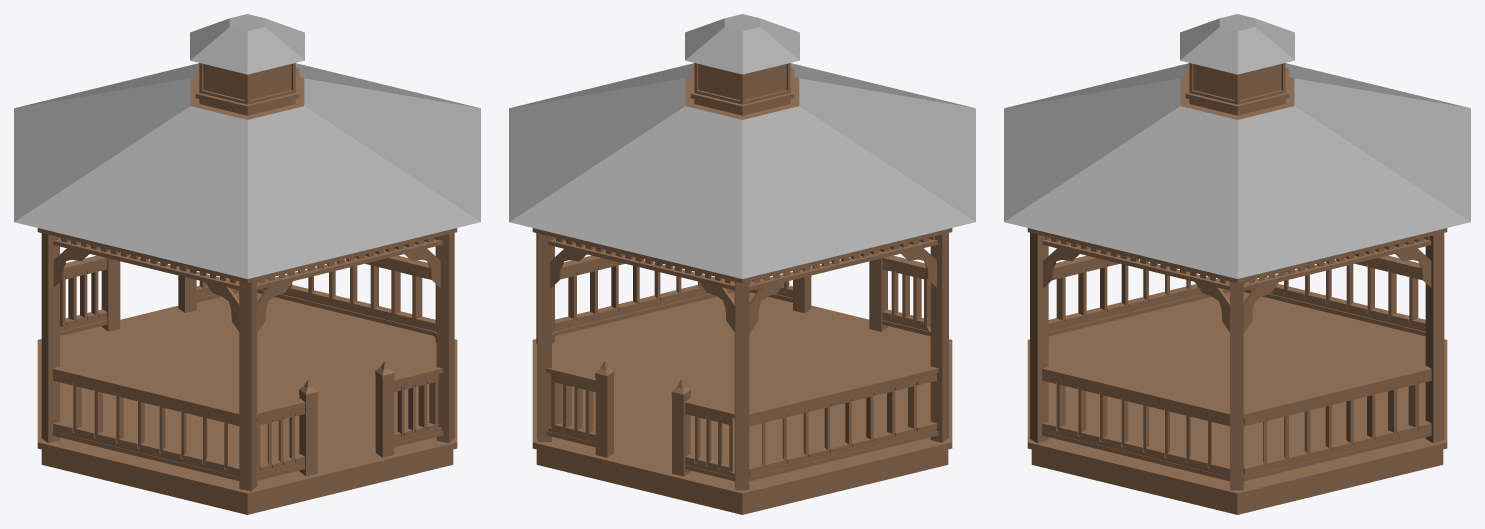
The model's file is Gazebo.fbx.
The picture shows the model from 3 angles, left to right: view 1: azimuth 30°, elevation 25°; view 2: azimuth 150°, elevation 25°; view 3: azimuth 270°, elevation 25°; orthographic projection.
Visible parts, largest first — view 1: Gazebo; view 2: Gazebo; view 3: Gazebo.
Boxes of the visible parts, x1,y1,x2,y2 form: Gazebo: [14, 14, 480, 514]; Gazebo: [509, 14, 975, 514]; Gazebo: [1004, 14, 1470, 514].
Size of the model in its own units: 597 by 479 by 517.
